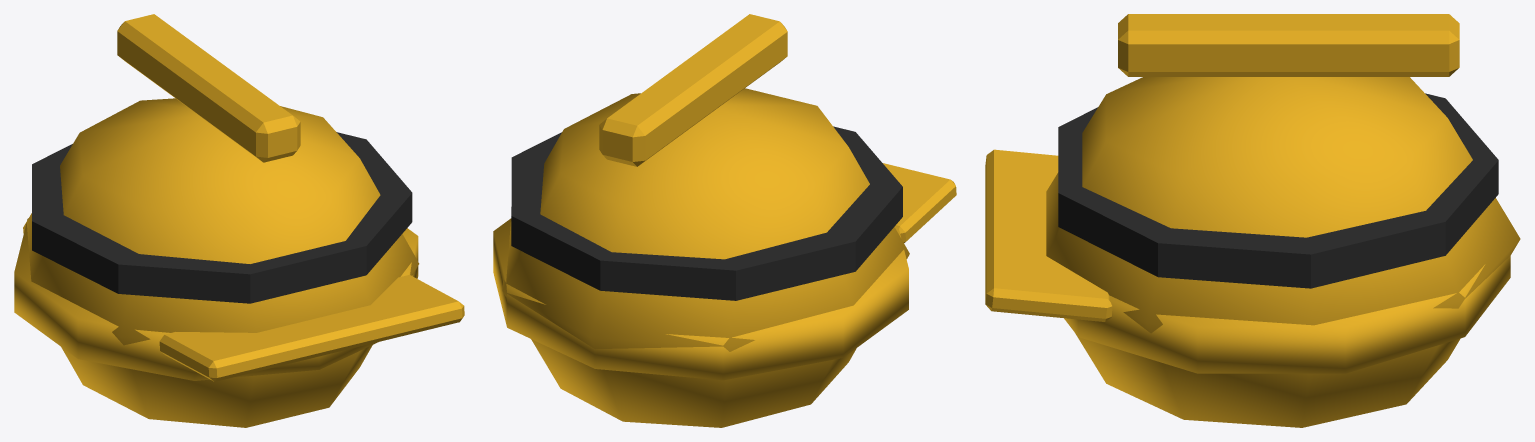
The model's file is npc_hardhat_yellow.glb.
3 views of the same model, side by side, from view 1: azimuth 30°, elevation 25°; view 2: azimuth 150°, elevation 25°; view 3: azimuth 270°, elevation 25° (orthographic). The views are drawn at different scales.
Parts seen in each view (by area): view 1: part.npc_hardhat_yellow; view 2: part.npc_hardhat_yellow; view 3: part.npc_hardhat_yellow.
Part boxes in pixels (x1,y1,x2,y2): part.npc_hardhat_yellow: (14,14,464,427); part.npc_hardhat_yellow: (493,14,956,427); part.npc_hardhat_yellow: (985,14,1520,427).
Bounding box in the file's own units: 0.2663 × 0.2507 × 0.3135.
